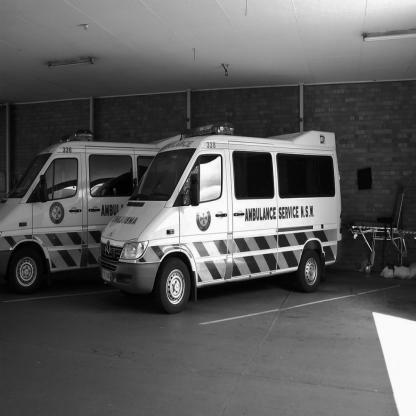ambulance: (97, 124, 346, 319), (4, 137, 105, 290)
